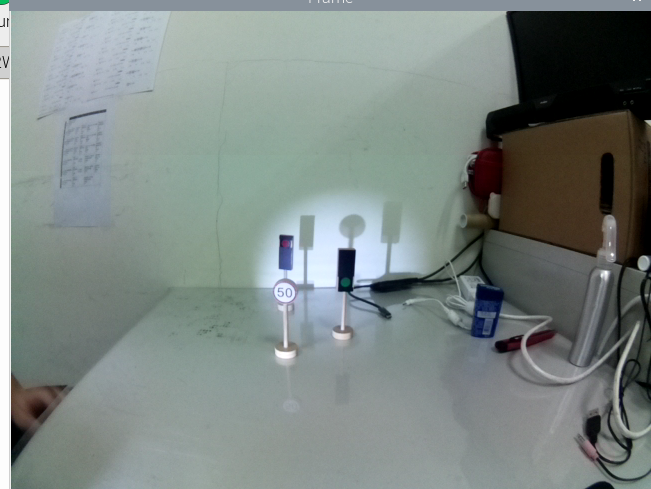Green: (336, 247, 356, 297)
Red: (275, 233, 297, 275)
Speed50: (271, 278, 301, 309)
